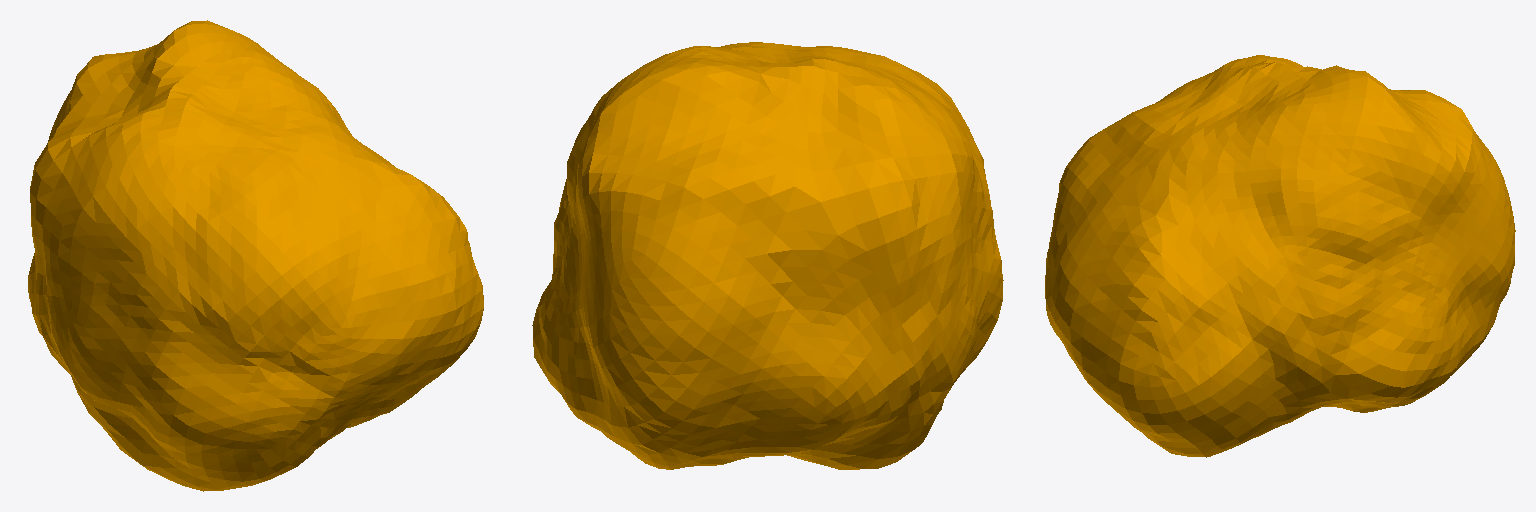
The robot description file, URDF, robot "rock":
<?xml version="1.0" ?>
<robot name="rock">
  <link name="rock">
    <inertial>
      <mass value="0.205"/>
      <origin rpy="0 0 0" xyz="0 0 0"/>
      <inertia ixx="0.000205" ixy="0" ixz="0" iyy="0.000205" iyz="0" izz="0.000205"/>
    </inertial>
    <collision name="rock_collision">
      <origin rpy="0 0 0" xyz="0 0 0"/>
      <geometry>
        <mesh filename="package://rocks/visual/150.dae" scale="1 1 1"/>
      </geometry>
    </collision>
    <visual name="rock_visual">
      <origin rpy="0 0 0" xyz="0 0 0"/>
      <geometry>
        <mesh filename="package://rocks/visual/150.dae" scale="1 1 1"/>
      </geometry>
    </visual>
  </link>
</robot>

--- What the picture shows (computed from the rendered views, not written in the file) ---
The picture shows the robot from 3 angles, left to right: view 1: azimuth 30°, elevation 25°; view 2: azimuth 150°, elevation 25°; view 3: azimuth 270°, elevation 25°; orthographic projection.
Robot: rock — 1 links, 0 joints (none); root link rock; default pose: all joints at 0.
Links seen in each view (by area): view 1: rock; view 2: rock; view 3: rock.
Boxes of the visible links, x1,y1,x2,y2 form: rock: [28, 20, 483, 491]; rock: [532, 42, 1003, 469]; rock: [1045, 55, 1515, 457].
Bounding box of the posed robot: 0.0707 × 0.081 × 0.0696 m (x, y, z).
1 mesh visuals loaded from 1 distinct referenced files (1 Collada DAE).